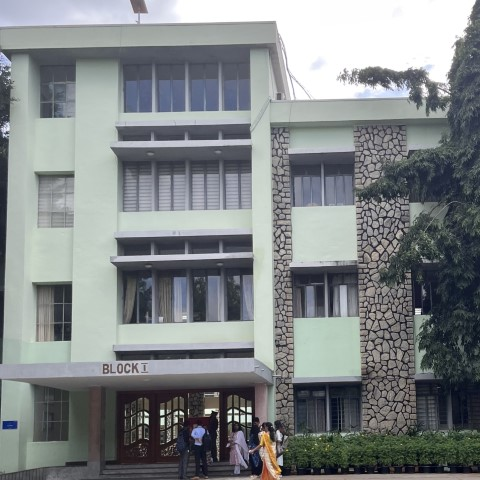Block 1: (2, 22, 420, 480)
